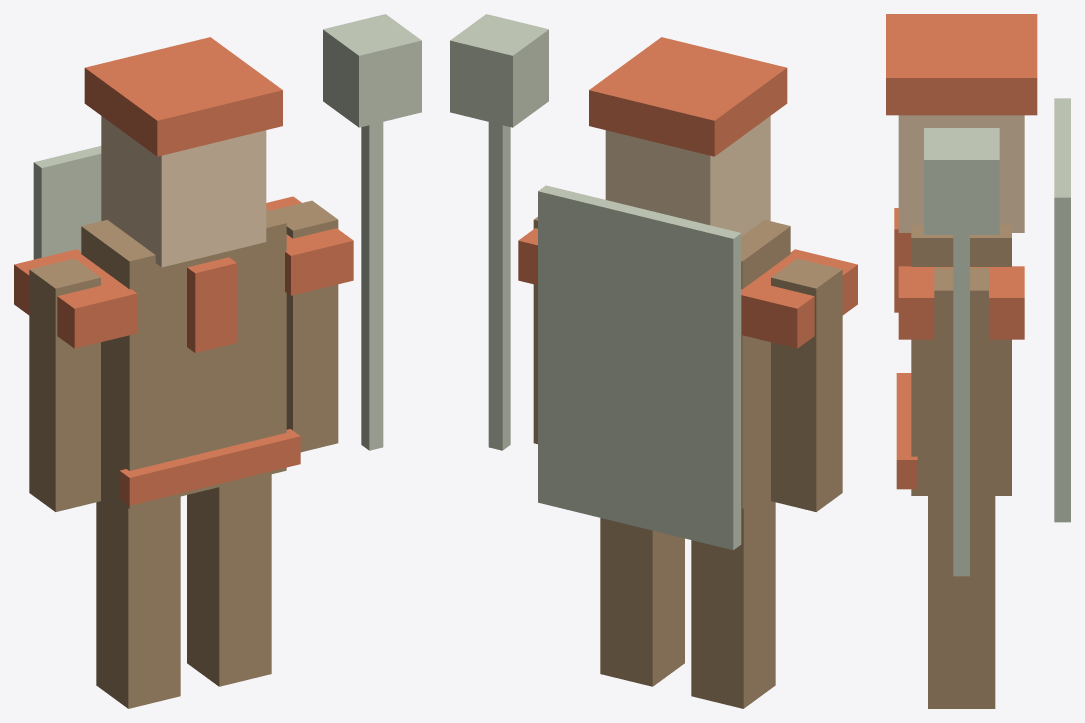
Rendered from 11_sarai_dubwater_ranger_under_wreck.glb.
3 renders of one model, left to right at view 1: azimuth 30°, elevation 25°; view 2: azimuth 150°, elevation 25°; view 3: azimuth 270°, elevation 25°, orthographic. The views are drawn at different scales.
Parts seen in each view (by area): view 1: Sarai Dubwater, Ranger under Wreck; view 2: Sarai Dubwater, Ranger under Wreck; view 3: Sarai Dubwater, Ranger under Wreck.
Boxes of the visible parts, x1,y1,x2,y2 form: Sarai Dubwater, Ranger under Wreck: (14, 14, 421, 708); Sarai Dubwater, Ranger under Wreck: (450, 14, 857, 708); Sarai Dubwater, Ranger under Wreck: (886, 14, 1070, 708).
Size of the model in its own units: 1 by 1.59 by 0.4255.
